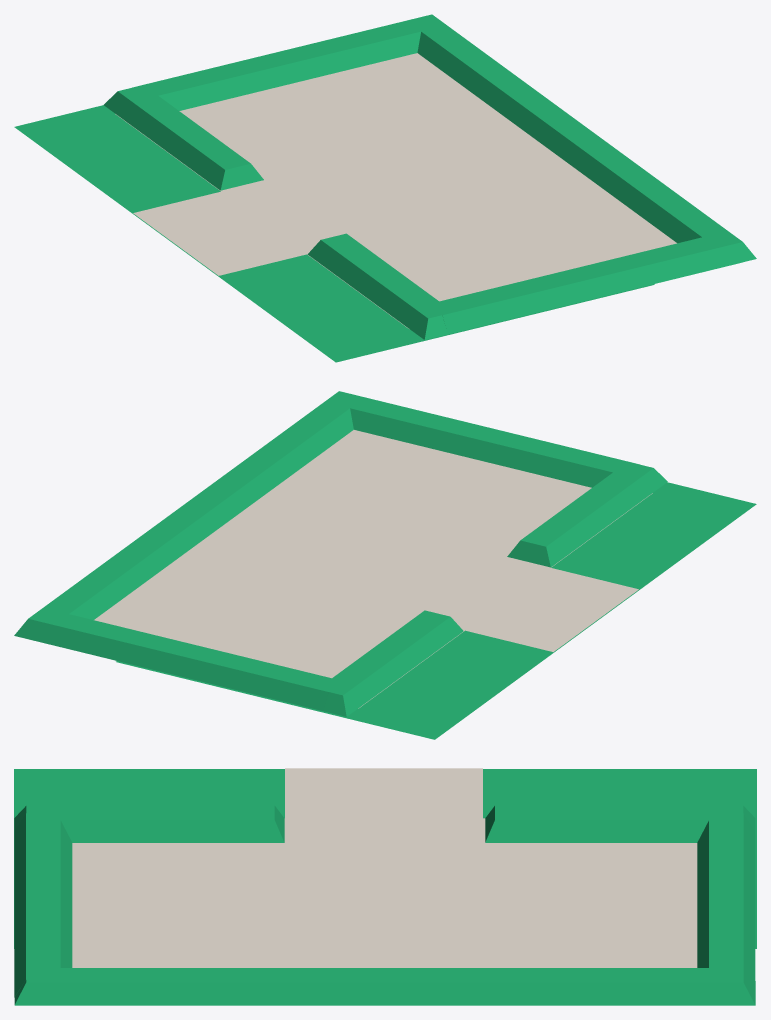
The model's file is kas ondergrond.fbx.
3 renders of one model, top to bottom at view 1: azimuth 30°, elevation 25°; view 2: azimuth 150°, elevation 25°; view 3: azimuth 270°, elevation 25°, orthographic. The views are drawn at different scales.
Parts seen in each view (by area): view 1: Plane.002, Cube, Plane.003; view 2: Plane.002, Cube, Plane.003; view 3: Plane.002, Cube, Plane.003.
Boxes of the visible parts, box(x1,y1,x2,y2) form: Plane.002: box(115, 53, 676, 328); Cube: box(104, 14, 756, 339); Plane.003: box(14, 105, 654, 362); Plane.002: box(94, 430, 652, 708); Cube: box(14, 391, 667, 716); Plane.003: box(116, 482, 756, 739); Plane.002: box(72, 768, 697, 967); Cube: box(14, 805, 755, 1005); Plane.003: box(14, 769, 756, 948).
Bounding box in the file's own units: 3261 × 120 × 4316.
